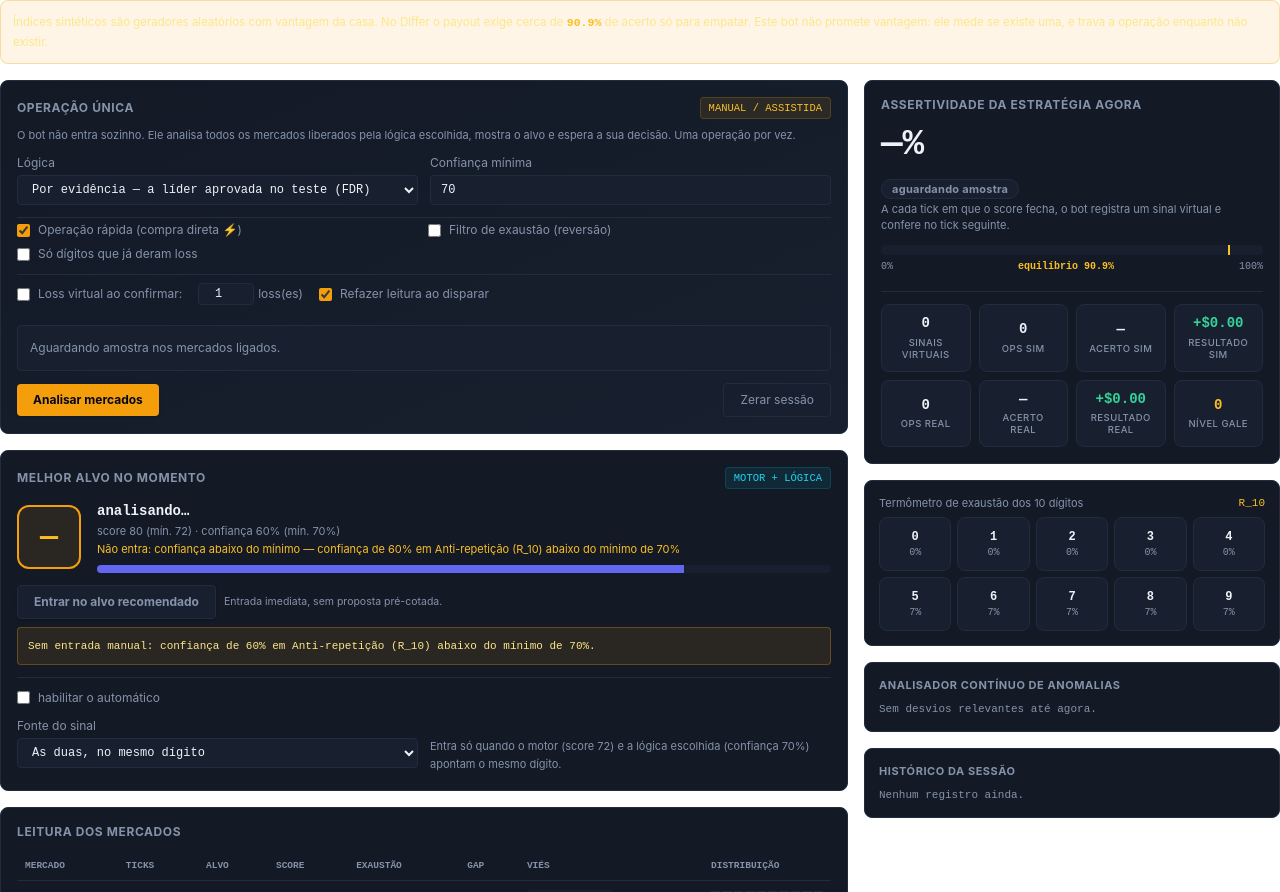
Scenario: BearDiffer - Analytical Tabs Suite (TDD) › OperationTab proposal warming › refuses a target whose confidence is below the configured minimum
Click the button "Analisar mercados" at (88, 400), box [17,384,159,416]
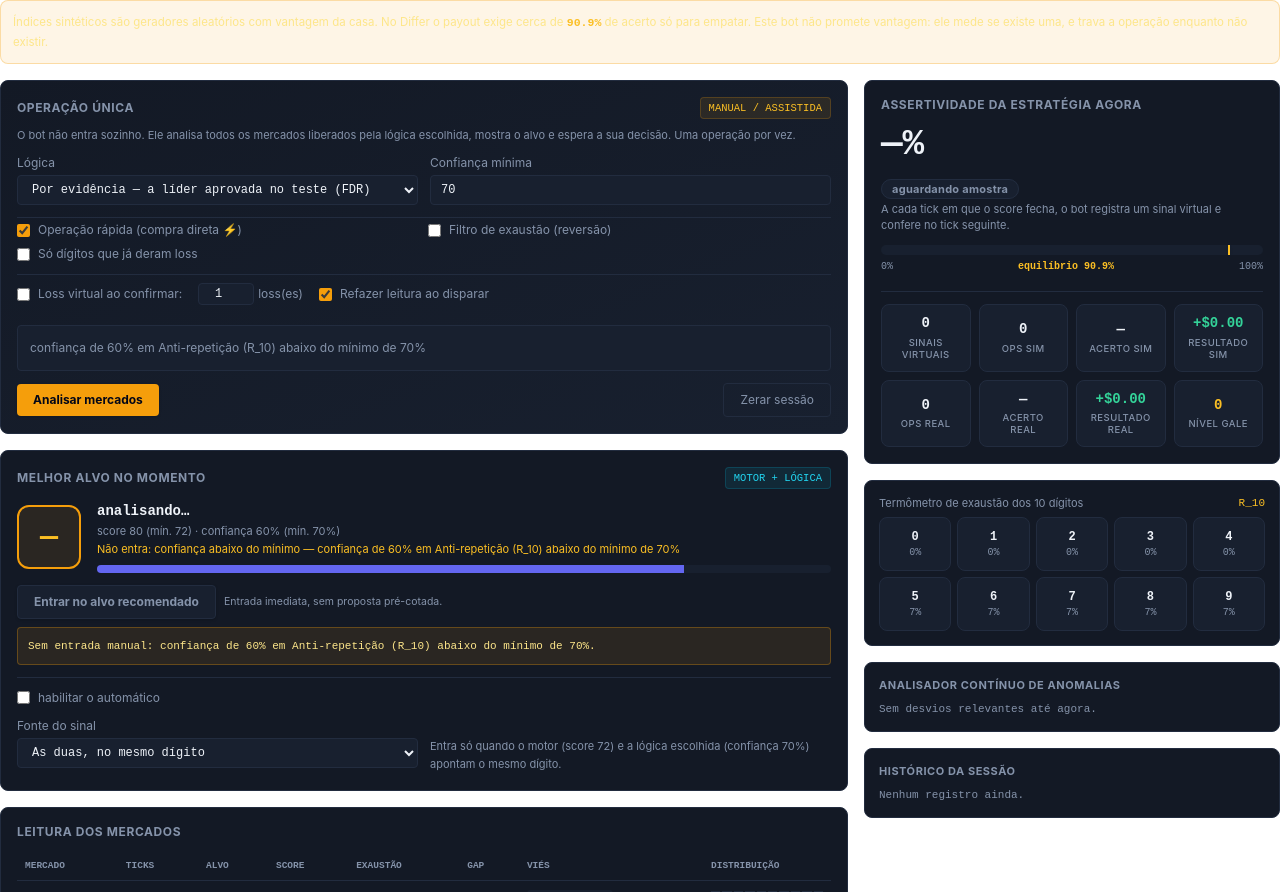
Expected: the text "abaixo do mínimo" is shown, [30,340,426,355]
